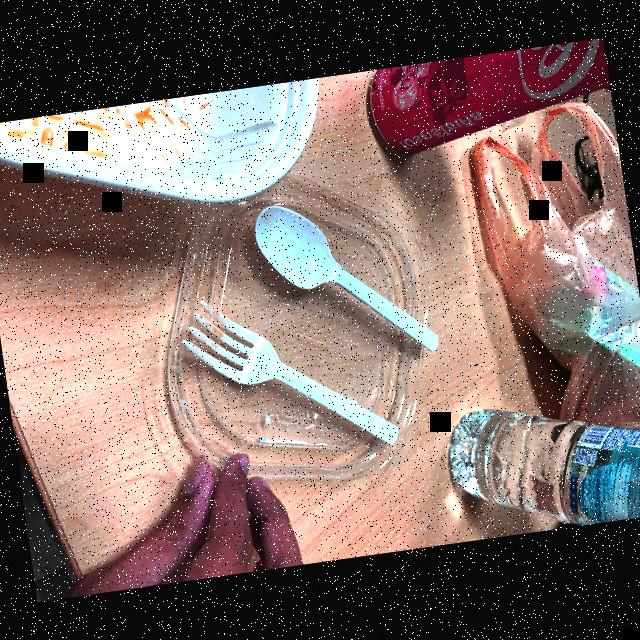plastic_cultery: (165, 266, 412, 492), (243, 174, 445, 376)
